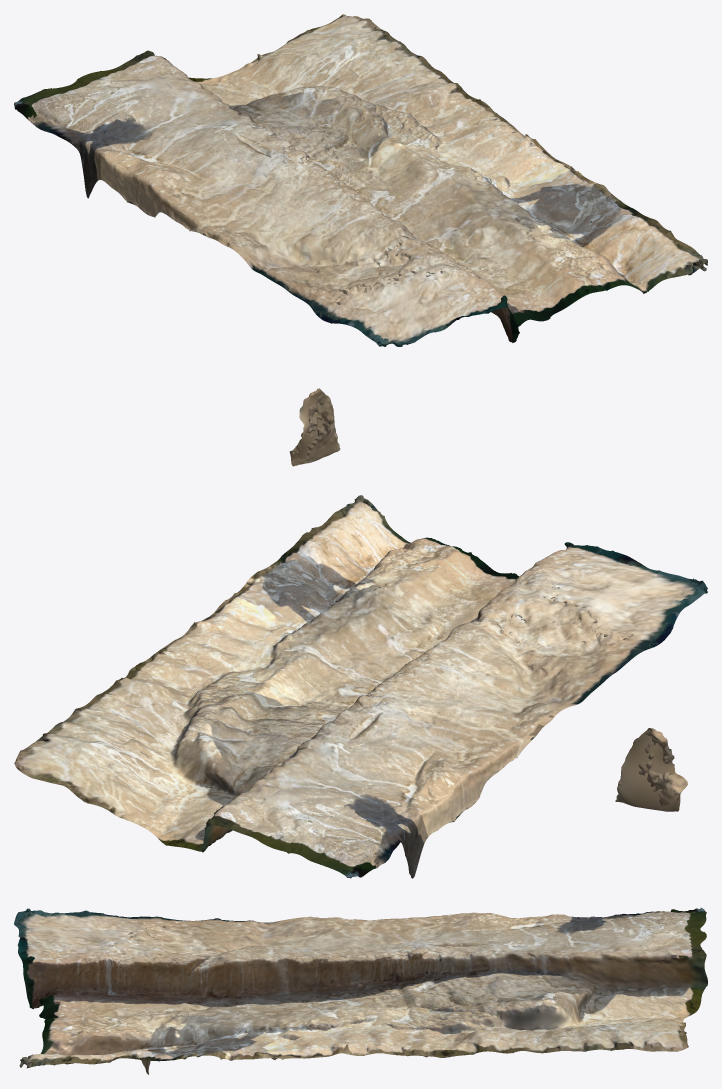
The model's file is upper-stairs.glb.
3 views of the same model, one above another, from view 1: azimuth 30°, elevation 25°; view 2: azimuth 150°, elevation 25°; view 3: azimuth 270°, elevation 25° (orthographic). The views are drawn at different scales.
Parts seen in each view (by area): view 1: Top of the gate; view 2: Top of the gate; view 3: Top of the gate.
Part boxes in pixels (bbox=[...]): Top of the gate: bbox=[14, 14, 707, 466]; Top of the gate: bbox=[14, 495, 707, 878]; Top of the gate: bbox=[14, 908, 707, 1074].
Bounding box in the file's own units: 2.26 × 1.05 × 3.85.
1 material, 1 textured.
